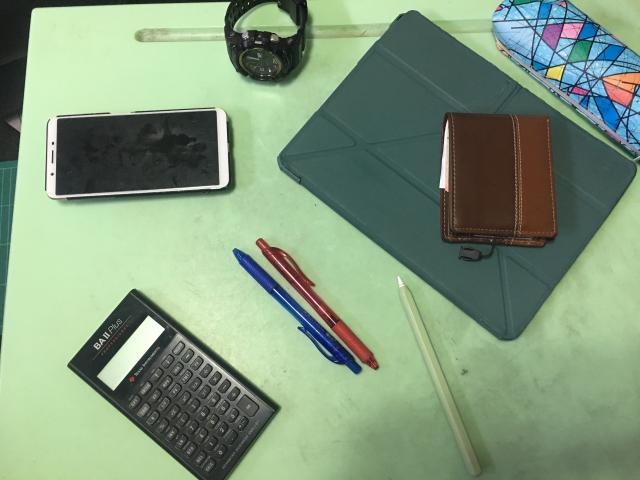Mobile phone: (46, 108, 237, 203)
Pen: (233, 240, 379, 375)
Wallet: (439, 112, 557, 247)
Watch: (223, 0, 312, 86)
